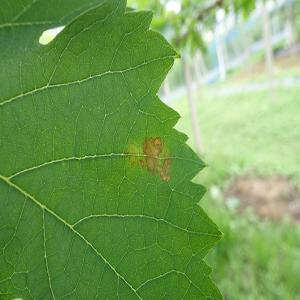Folha: (0, 0, 226, 299)
Fungo: (124, 134, 172, 182), (142, 135, 162, 175), (125, 141, 139, 168), (159, 157, 171, 182), (160, 170, 170, 182), (154, 136, 162, 146), (139, 158, 145, 168)
